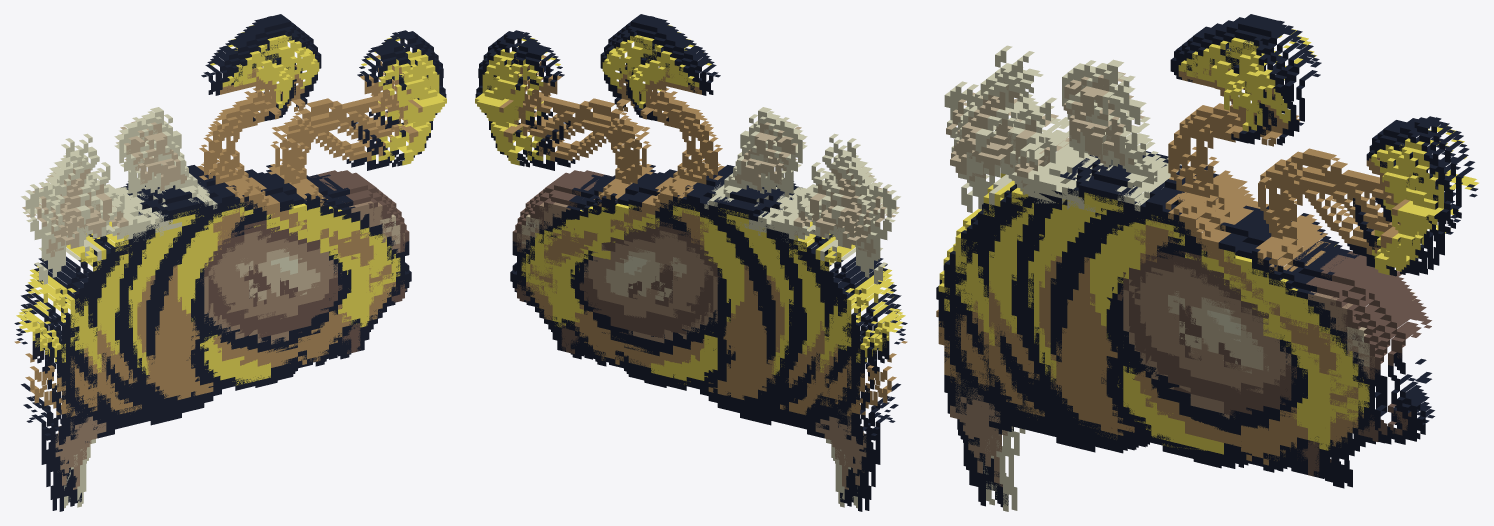
The model's file is abelhao_voando.glb.
The picture shows the model from 3 angles, left to right: view 1: azimuth 30°, elevation 25°; view 2: azimuth 150°, elevation 25°; view 3: azimuth 330°, elevation 25°; orthographic projection. The views are drawn at different scales.
Visible parts, largest first — view 1: q0, q2, q1, q3; view 2: q0, q2, q1, q3; view 3: q0, q2, q1, q3.
Part boxes in pixels (bbox=[...]): q0: bbox=[21, 31, 432, 507]; q2: bbox=[14, 14, 430, 486]; q1: bbox=[16, 38, 426, 502]; q3: bbox=[16, 24, 446, 511]; q0: bbox=[489, 31, 901, 507]; q2: bbox=[487, 14, 907, 472]; q1: bbox=[495, 38, 905, 502]; q3: bbox=[475, 24, 905, 511]; q0: bbox=[944, 27, 1460, 511]; q2: bbox=[936, 14, 1463, 488]; q1: bbox=[938, 23, 1455, 505]; q3: bbox=[938, 26, 1478, 506].
Size of the model in its own units: 93 by 93 by 16.
Materials: 1 (1 with a texture image).
